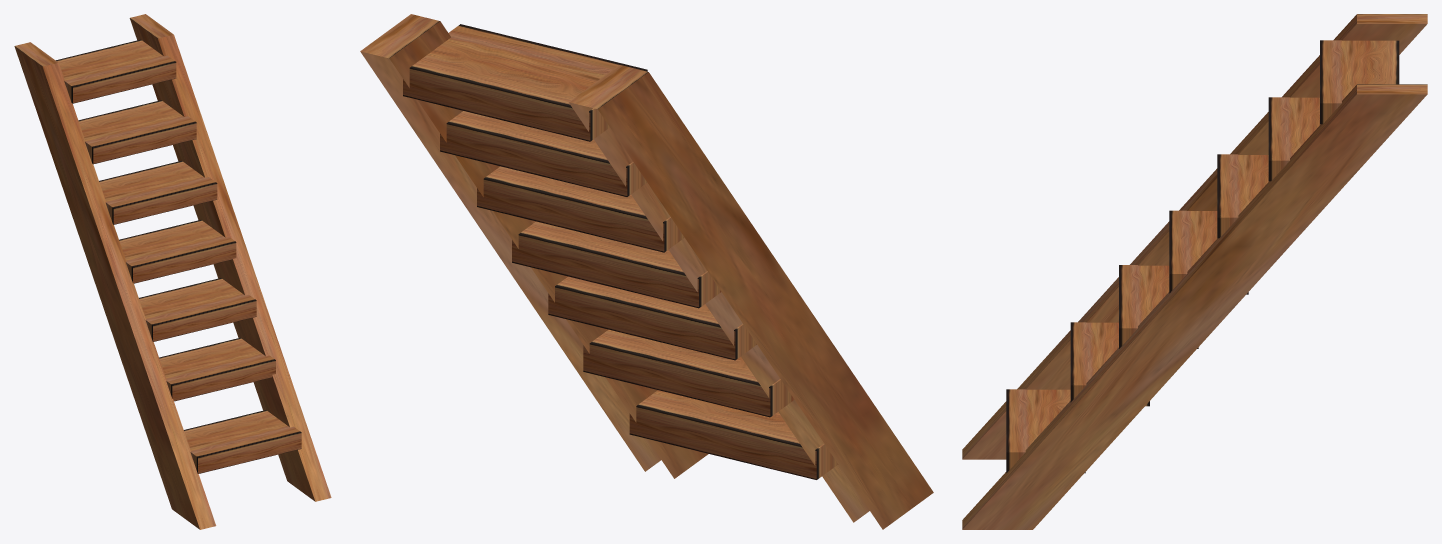
Rendered from escalera.fbx.
The picture shows the model from 3 angles, left to right: view 1: azimuth 30°, elevation 25°; view 2: azimuth 150°, elevation 25°; view 3: azimuth 270°, elevation 25°; orthographic projection. The views are drawn at different scales.
Visible parts, largest first — view 1: Cube; view 2: Cube; view 3: Cube.
Part boxes in pixels (<box>): Cube: <box>14,14,331,529</box>; Cube: <box>360,14,933,529</box>; Cube: <box>962,14,1427,529</box>.
Bounding box in the file's own units: 574 × 1452 × 1406.
